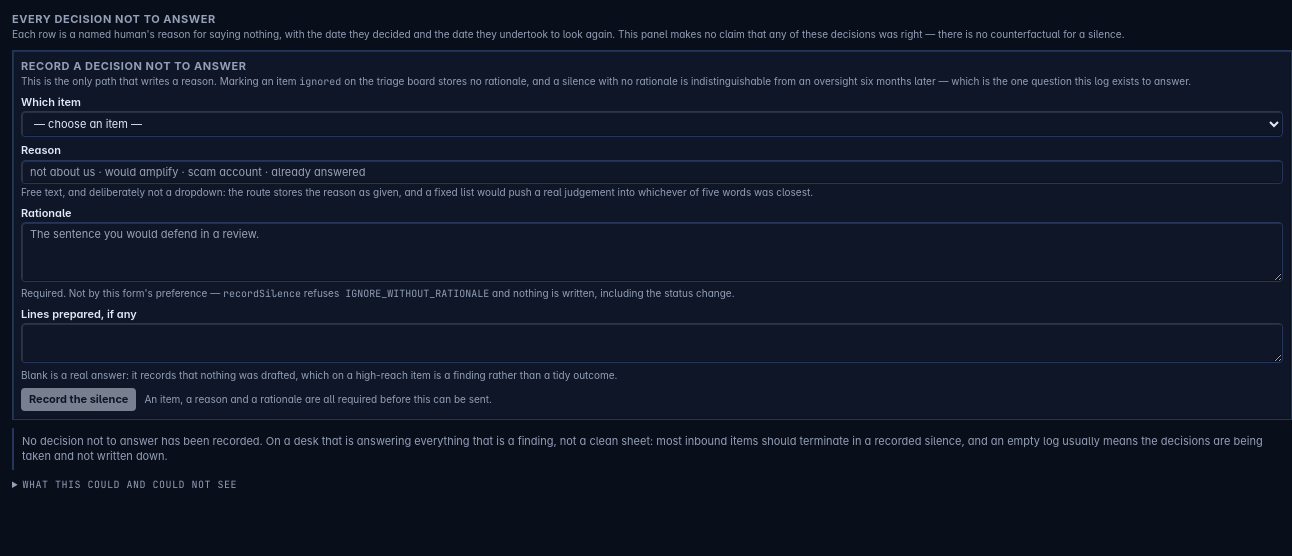
Scenario: the silence log can finally record a silence › sends the rationale and does not invent a lines-prepared value
Step 1. Select "@stranger · is LCX insolvent" in the dropdown named "Item to record a silence against" → (652, 124), box [21,111,1283,137]
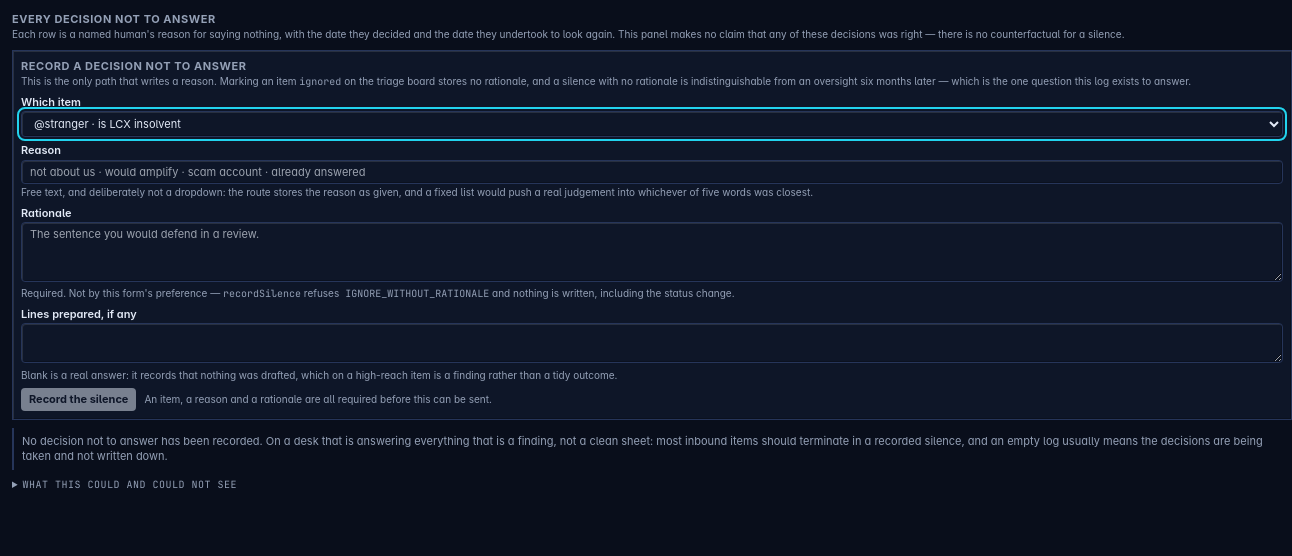
Step 2. Type "would amplify" into the field labelled "Reason" → (652, 172), box [21,160,1283,184]
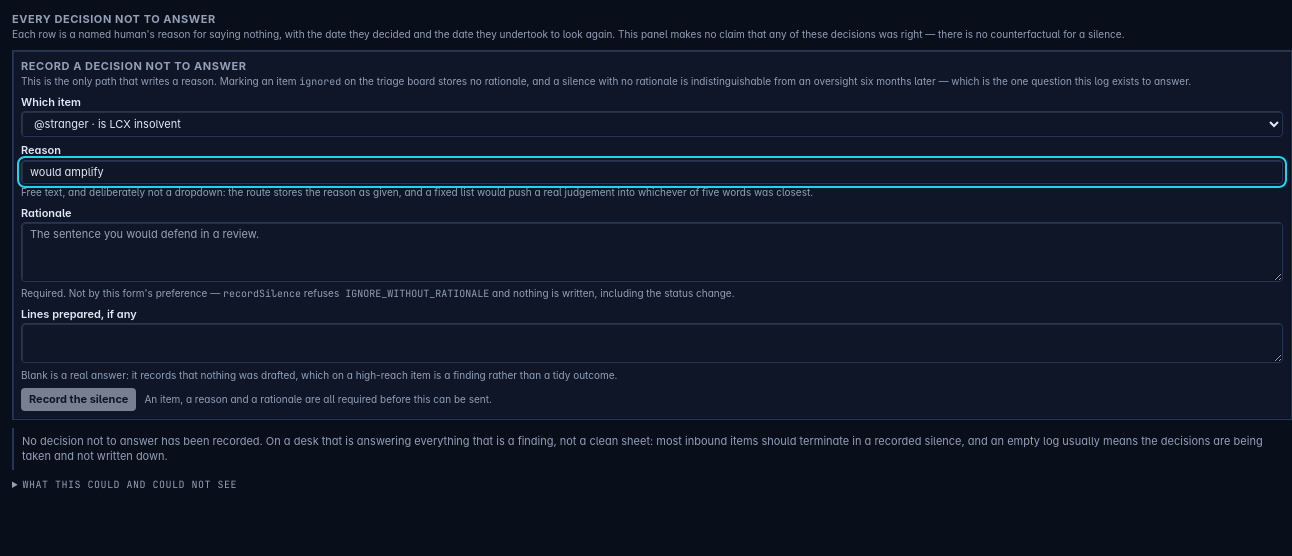
Step 3. Type "A reply hands them the audience." into the text box labelled "Rationale" → (652, 252), box [21,222,1283,282]
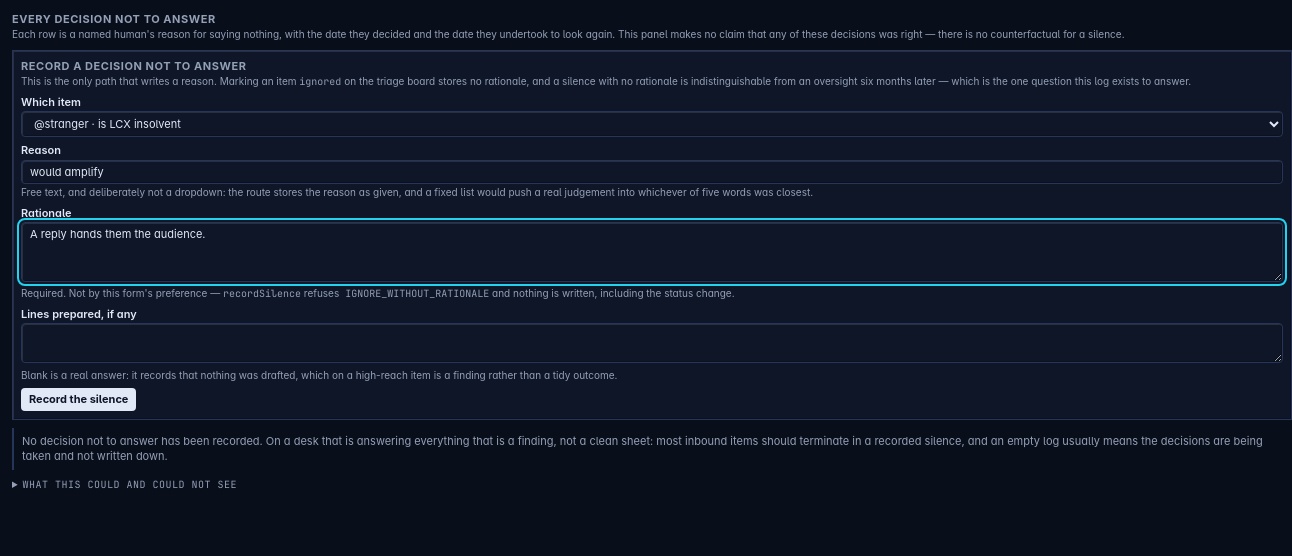
Step 4. Click the button "Record the silence" → (79, 400), box [21,388,136,411]
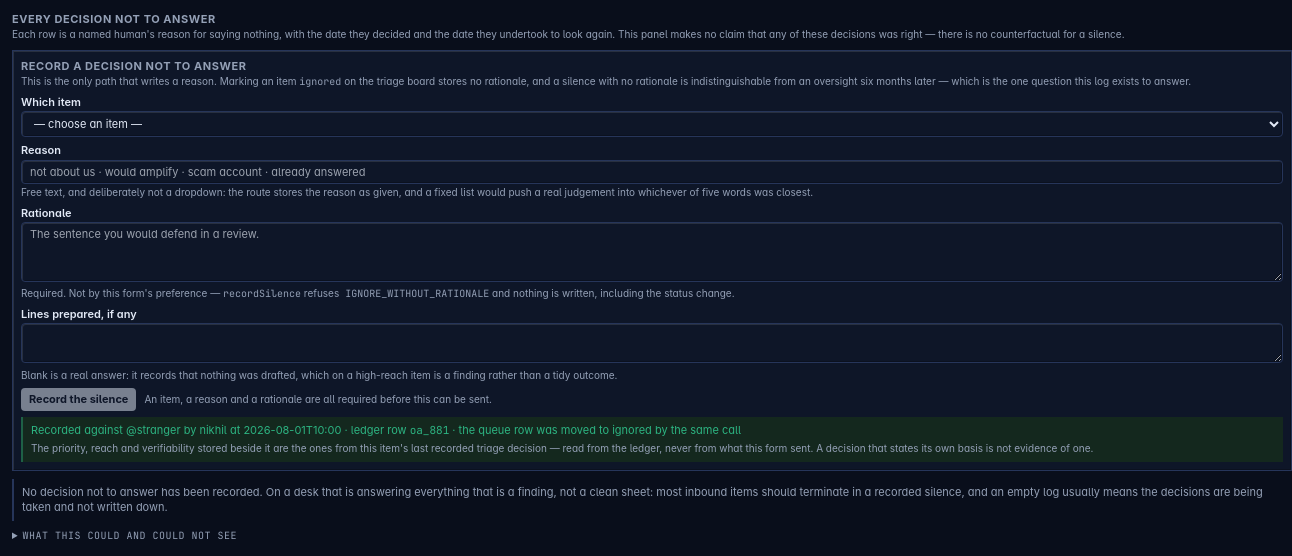
Expected: the element with test id "mkt-silence-recorded" shows "ledger row", [341,423,410,437]
Expected: the element with test id "mkt-silence-recorded" shows "oa_881", [410,423,449,437]
Expected: the element with test id "mkt-silence-recorded" shows "never from what this form sent", [31,442,1093,454]
